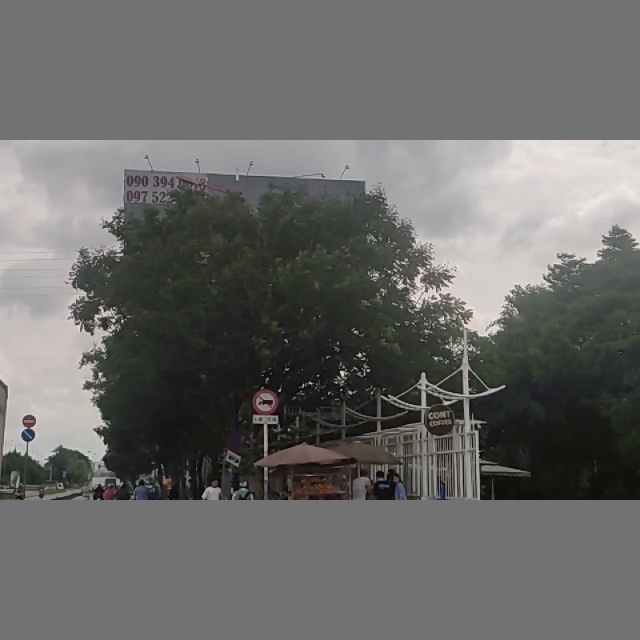B.8a: (253, 390, 279, 425)
P.102: (20, 413, 37, 428)
R.302a: (21, 429, 37, 443)
